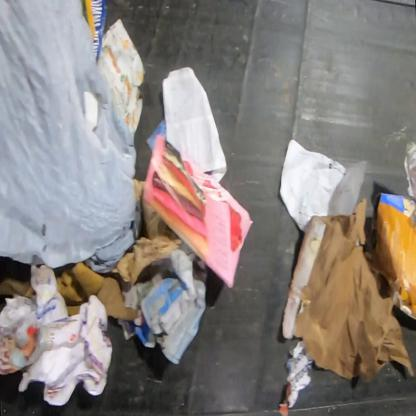cardboard: (373, 193, 415, 322), (53, 262, 139, 321), (0, 255, 34, 300)
soft_plastic: (0, 0, 142, 273)
